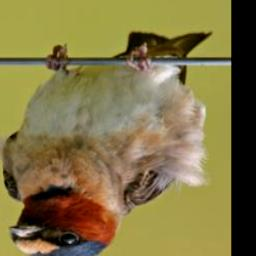Swallow: (0, 29, 214, 256)
